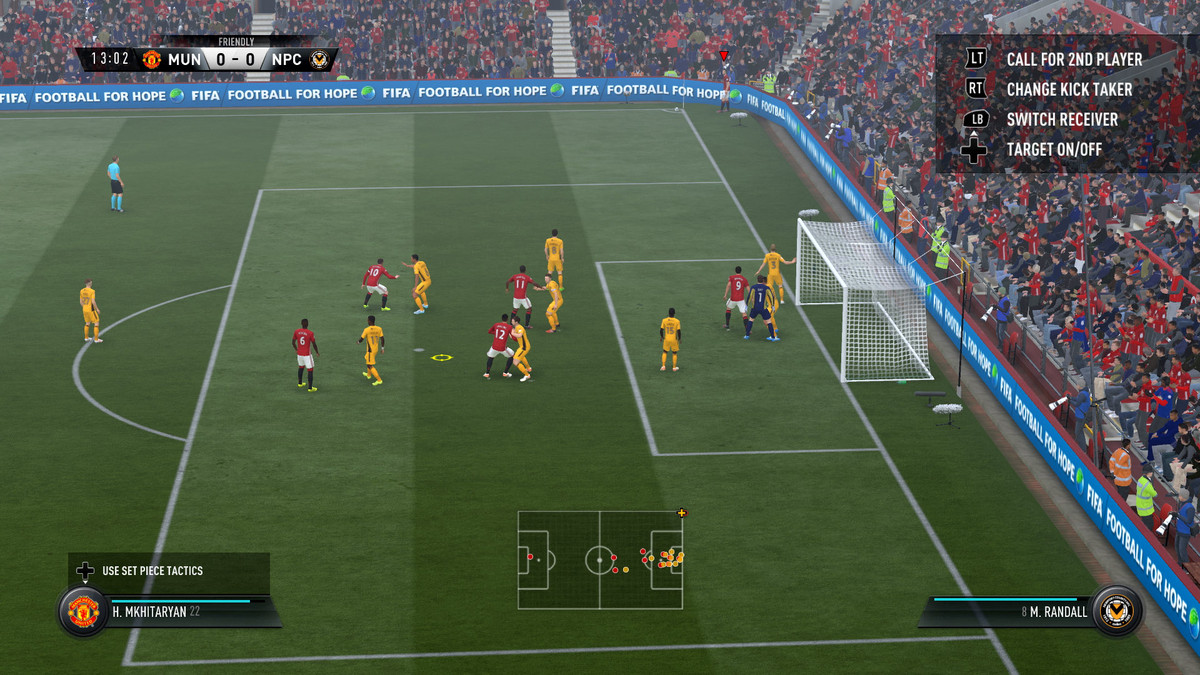ball: (668, 100, 684, 116)
goal: (792, 213, 967, 400)
player: (289, 319, 320, 394), (74, 276, 106, 346), (748, 275, 780, 341), (357, 314, 387, 383), (658, 307, 688, 371), (721, 266, 750, 332), (509, 317, 540, 378), (360, 252, 393, 307), (407, 254, 438, 312), (489, 314, 517, 378), (506, 265, 535, 323), (760, 240, 785, 298), (540, 274, 563, 330), (544, 228, 569, 278), (720, 71, 738, 107)
